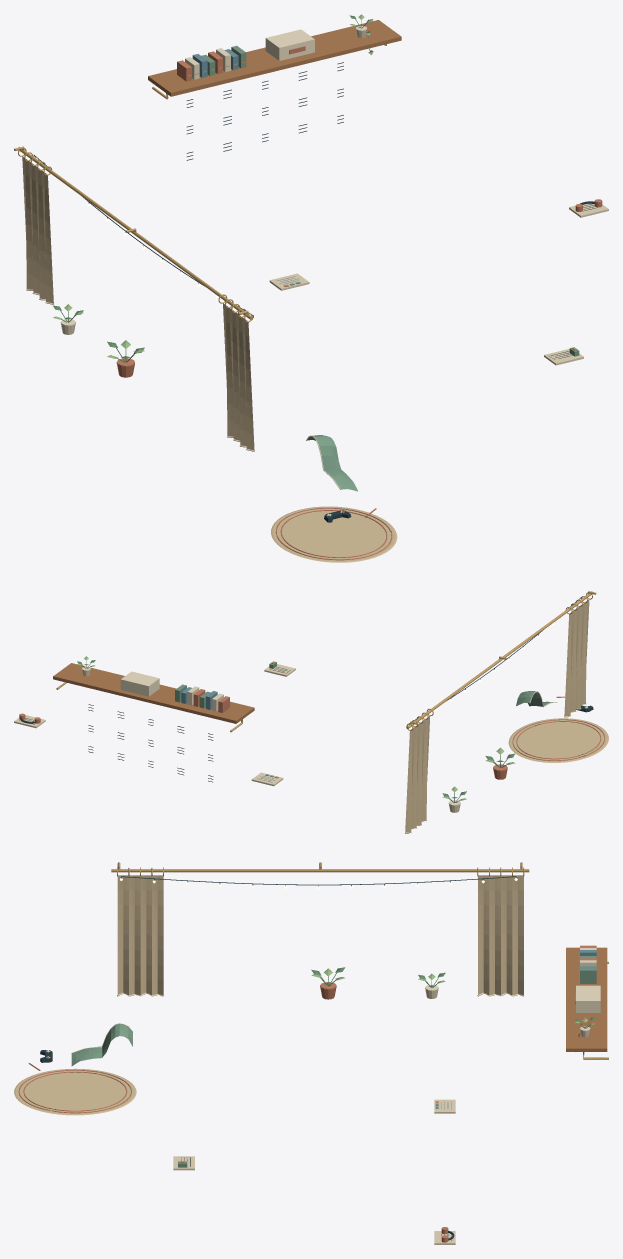
File: office-cozy.glb
The picture shows the model from 3 angles, top to bottom: view 1: azimuth 30°, elevation 25°; view 2: azimuth 150°, elevation 25°; view 3: azimuth 270°, elevation 25°; orthographic projection. The views are drawn at different scales.
Parts seen in each view (by area): view 1: CZ_Batch_Window_Linen.003, CZ_LoungeRug, CZ_UpperShelf, CZ_Batch_Back_Cream, CZ_Batch_Window_Brass.003, CZ_DrapedThrow, CZ_Batch_Lounge_Clay; view 2: CZ_Batch_Window_Linen.003, CZ_LoungeRug, CZ_UpperShelf, CZ_Batch_Back_Cream, CZ_Batch_Window_Brass.003, CZ_Batch_Lounge_Clay, CZ_DrapedThrow, CZ_Batch_Back_Ink; view 3: CZ_Batch_Window_Linen.003, CZ_LoungeRug, CZ_UpperShelf, CZ_Batch_Window_Brass.003, CZ_Batch_Back_Cream, CZ_DrapedThrow, CZ_Batch_Lounge_Clay, CZ_Batch_Window_Ink.003.
Boxes of the visible parts, box(x1,y1,x2,y2) form: CZ_Batch_Window_Linen.003: box(22, 156, 254, 450); CZ_LoungeRug: box(271, 506, 397, 562); CZ_UpperShelf: box(148, 20, 401, 96); CZ_Batch_Back_Cream: box(185, 25, 367, 79); CZ_Batch_Window_Brass.003: box(14, 146, 253, 322); CZ_DrapedThrow: box(307, 435, 357, 491); CZ_Batch_Lounge_Clay: box(275, 507, 392, 560); CZ_Batch_Window_Linen.003: box(405, 599, 589, 832); CZ_LoungeRug: box(508, 718, 608, 762); CZ_UpperShelf: box(53, 663, 254, 723); CZ_Batch_Back_Cream: box(82, 666, 223, 711); CZ_Batch_Window_Brass.003: box(406, 591, 596, 730); CZ_Batch_Lounge_Clay: box(512, 696, 604, 760); CZ_DrapedThrow: box(516, 691, 552, 706); CZ_Batch_Back_Ink: box(88, 704, 213, 782); CZ_Batch_Window_Linen.003: box(117, 875, 523, 995); CZ_LoungeRug: box(14, 1068, 136, 1115); CZ_UpperShelf: box(566, 947, 607, 1051); CZ_Batch_Window_Brass.003: box(111, 862, 529, 876); CZ_Batch_Back_Cream: box(576, 948, 600, 1037); CZ_DrapedThrow: box(71, 1024, 132, 1066); CZ_Batch_Lounge_Clay: box(18, 1057, 131, 1113); CZ_Batch_Window_Ink.003: box(121, 876, 516, 886).
Bounding box in the file's own units: 7.59 × 3.01 × 7.76.
